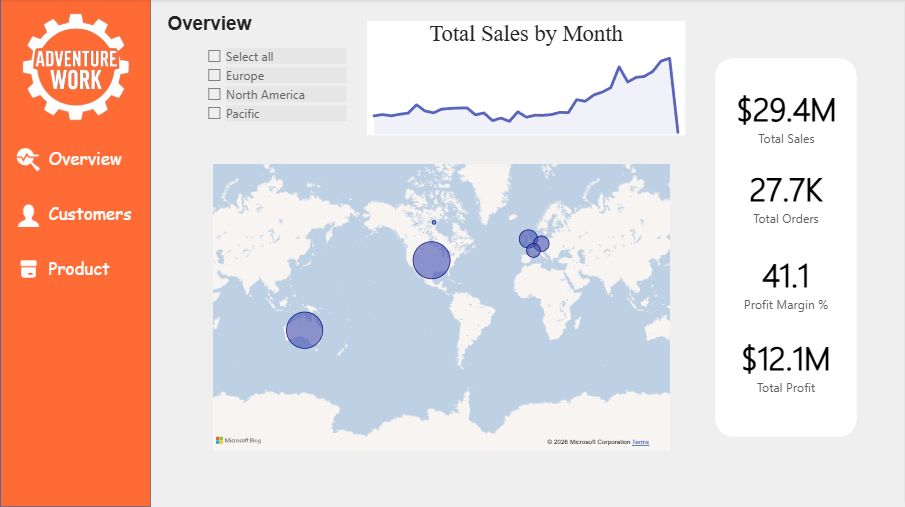

What the dashboard file says about the page in this screenshot:
{"tool":"powerbi","page":{"name":"Sale overview","canvas":[1280,720],"ordinal":0},"visuals":[{"type":"shape","box":[0,0,214.4,720.2],"z":0,"group":"g1"},{"type":"textbox","box":[232.4,15.4,157.2,46.1],"z":0},{"type":"group","id":"g1","title":"navigate","box":[0,0,214.5,720.2],"z":1000},{"type":"shape","box":[1012.8,83.8,201.3,537.2],"z":1000,"group":"g2"},{"type":"textbox","box":[63.9,204.5,134.2,46.9],"z":1000,"group":"g1"},{"type":"image","box":[0,0,214.4,193.1],"z":2000,"group":"g1"},{"type":"lineChart","title":"Total Sales by Month","fields":{"Y":["factSales.Total Sales"],"Category":["factSales.Start of Month.Variation.Date Hierarchy.Year","factSales.Start of Month.Variation.Date Hierarchy.Month"]},"box":[520.2,31.2,450.7,161.6],"z":2000},{"type":"card","fields":{"Values":["factSales.Total Sales"]},"box":[1020.8,110.7,185.7,111.6],"z":2000,"group":"g2"},{"type":"map","title":"Geographical Sales Overview","fields":{"Size":["factSales.Total Sales"],"Category":["dimTerritory.Country"]},"box":[296.2,228.2,659.1,416.7],"z":3000},{"type":"textbox","box":[63.8,360.1,134.2,47.5],"z":3000,"group":"g1"},{"type":"card","fields":{"Values":["factSales.Total Profit"]},"box":[1020.1,463.1,187.1,111.6],"z":3000,"group":"g2"},{"type":"slicer","fields":{"Values":["dimTerritory.Group"]},"box":[282,62.4,214,130.4],"z":4000},{"type":"card","fields":{"Values":["factSales.Total Orders"]},"box":[1020.1,223.7,187.1,111.6],"z":4000,"group":"g2"},{"type":"image","box":[16.4,356.8,47.5,50.7],"z":4000,"group":"g1"},{"type":"group","id":"g2","title":"Group 1","box":[1012.8,83.8,201.3,537.2],"z":5000},{"type":"textbox","box":[64.4,281.7,150.2,47.2],"z":5000,"group":"g1"},{"type":"card","fields":{"Values":["factSales.Profit Margin %"]},"box":[1020.1,345.6,187.1,111.6],"z":5000,"group":"g2"},{"type":"actionButton","box":[0,278.9,214.5,55.8],"z":6000},{"type":"image","box":[16.4,281.5,47.5,50.7],"z":6000,"group":"g1"},{"type":"actionButton","box":[0,201.7,214.5,51.5],"z":7000},{"type":"image","box":[16.4,203,47.5,50.7],"z":7000,"group":"g1"},{"type":"actionButton","box":[0,361.8,214.5,45.8],"z":8000}]}

Visuals, with their boxes in screenshot pixels (x1, y1, x2, y2), scaled from the page's 1280x720 canvas onto the 905x507 screenshot:
shape: (0, 0, 152, 506)
textbox: (164, 11, 275, 43)
"navigate" group: (0, 0, 152, 506)
shape: (716, 59, 858, 437)
textbox: (45, 144, 140, 177)
image: (0, 0, 152, 136)
"Total Sales by Month" lineChart: (368, 22, 686, 136)
card - factSales.Total Sales: (722, 78, 853, 157)
"Geographical Sales Overview" map: (209, 161, 675, 454)
textbox: (45, 254, 140, 287)
card - factSales.Total Profit: (721, 326, 854, 405)
slicer - dimTerritory.Group: (199, 44, 351, 136)
card - factSales.Total Orders: (721, 158, 854, 236)
image: (12, 251, 45, 287)
"Group 1" group: (716, 59, 858, 437)
textbox: (46, 198, 152, 232)
card - factSales.Profit Margin %: (721, 243, 854, 322)
actionButton: (0, 196, 152, 236)
image: (12, 198, 45, 234)
actionButton: (0, 142, 152, 178)
image: (12, 143, 45, 179)
actionButton: (0, 255, 152, 287)
